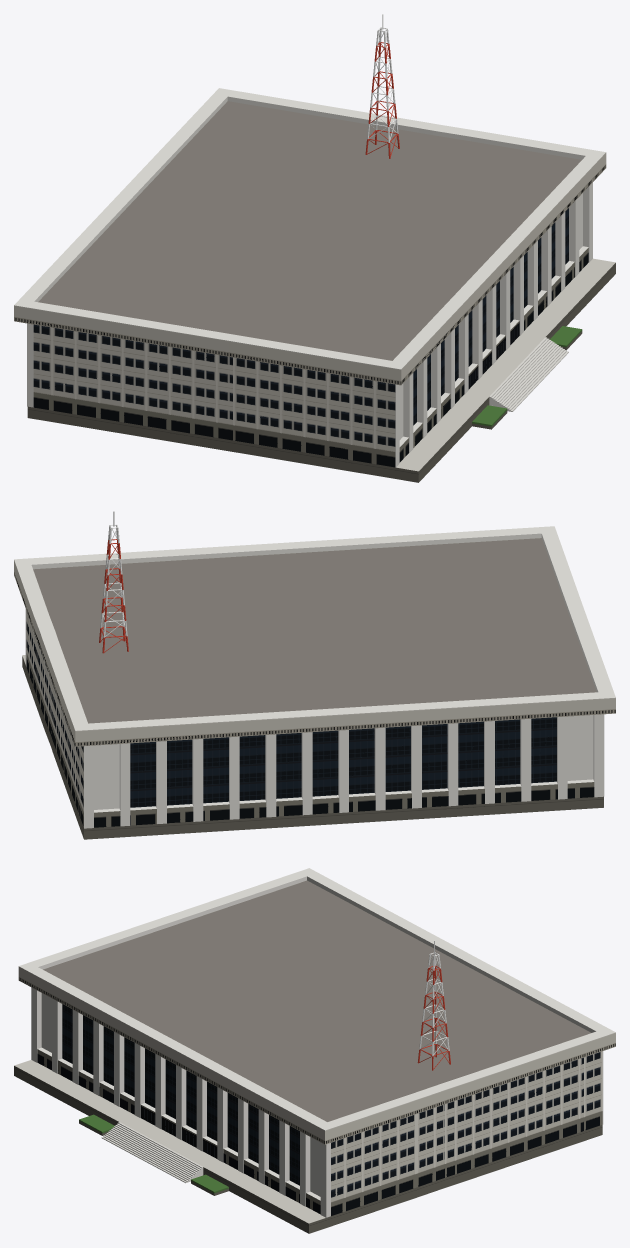
File: kbs-main.glb
The picture shows the model from 3 angles, top to bottom: view 1: azimuth 30°, elevation 25°; view 2: azimuth 150°, elevation 25°; view 3: azimuth 270°, elevation 25°; orthographic projection. The views are drawn at different scales.
Parts seen in each view (by area): view 1: kbs_body; view 2: kbs_body; view 3: kbs_body.
Part boxes in pixels (bbox=[...]): kbs_body: bbox=[14, 88, 615, 482]; kbs_body: bbox=[14, 526, 615, 839]; kbs_body: bbox=[14, 868, 615, 1233].
Bounding box in the file's own units: 165 × 65 × 160.
13 materials, 6 textured.
